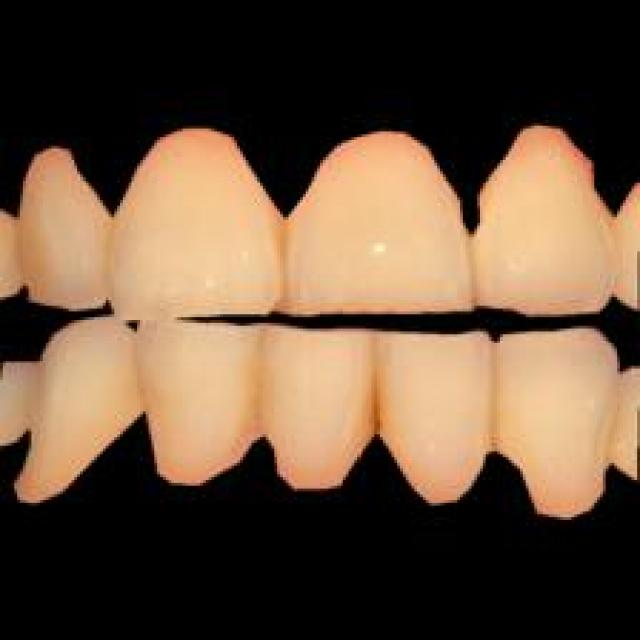cavity: (234, 386, 272, 434), (269, 209, 300, 254), (9, 223, 34, 277), (363, 380, 388, 431)
tooth: (286, 132, 468, 317), (111, 129, 283, 317), (472, 123, 614, 320), (492, 332, 632, 517), (368, 329, 503, 500), (15, 320, 134, 503), (149, 317, 274, 480), (257, 328, 380, 492), (14, 146, 109, 306)
